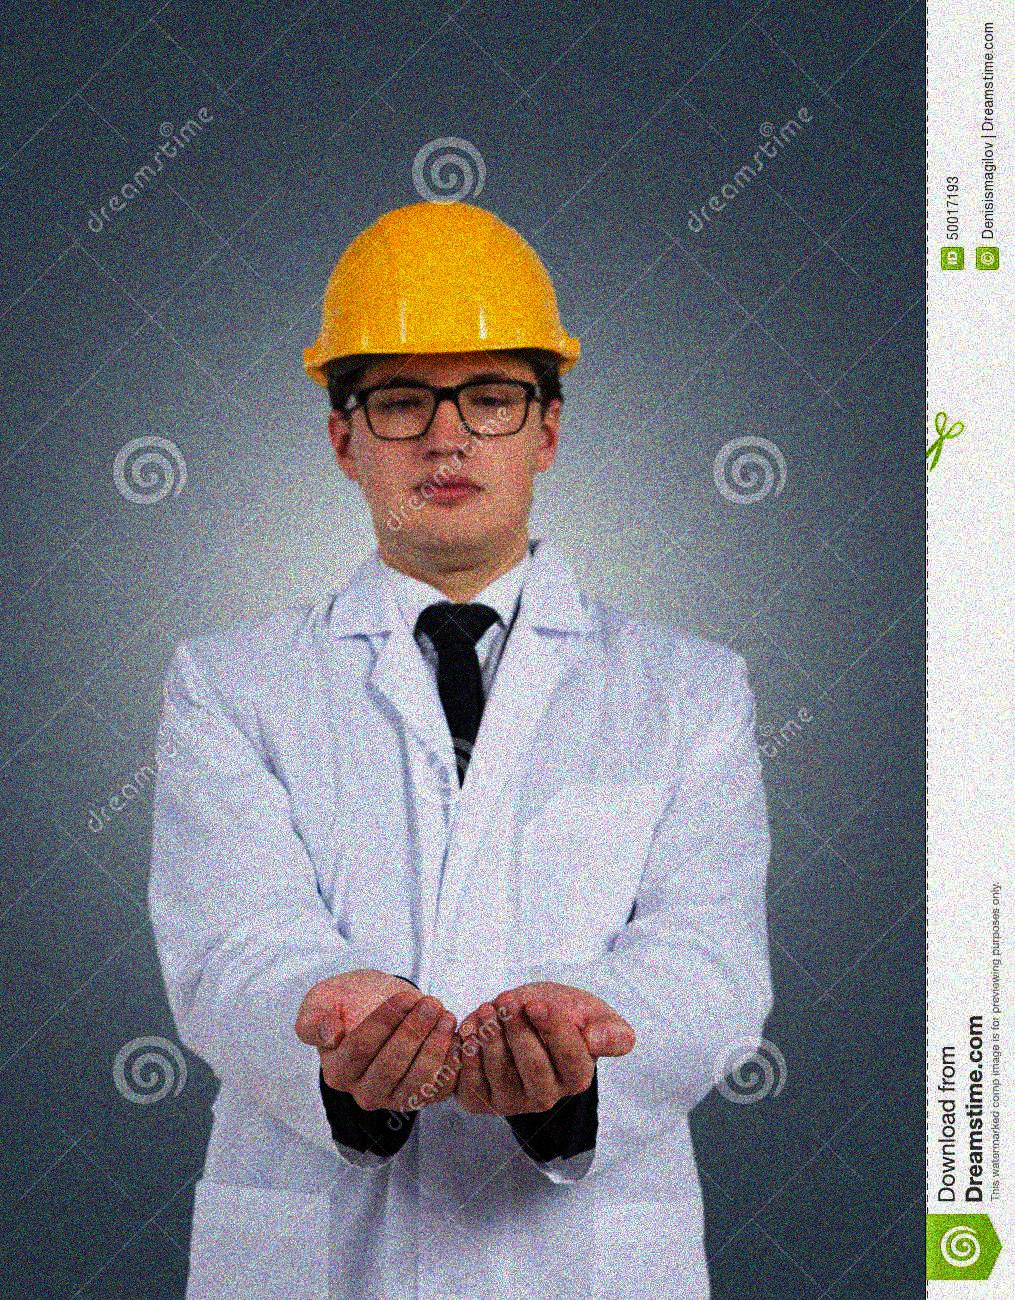helmet: (302, 191, 585, 571)
